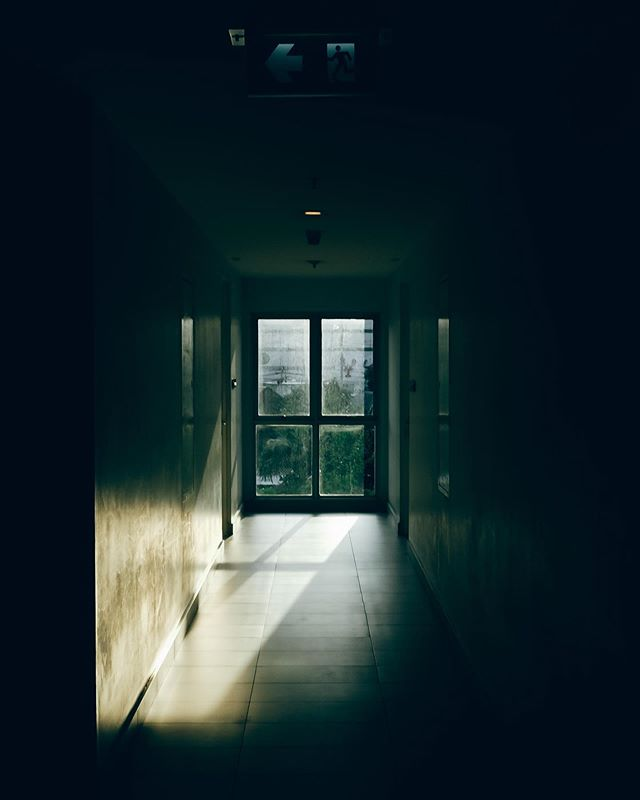door: (250, 298, 385, 527)
sign: (237, 27, 383, 102)
